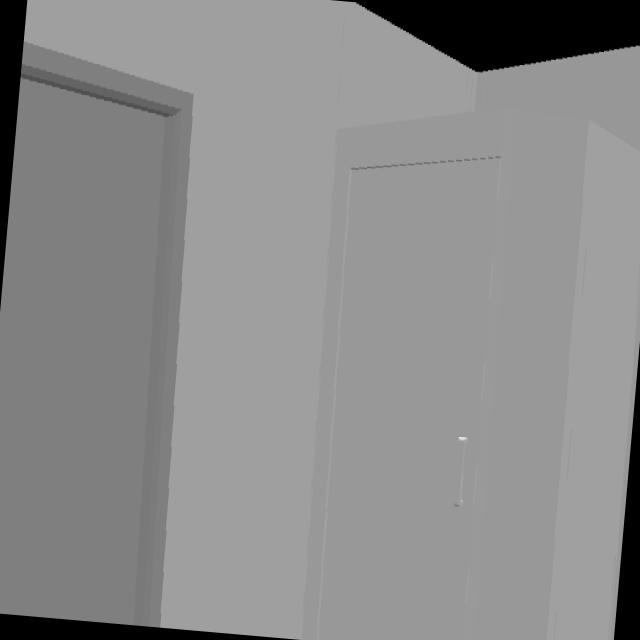shower: (300, 108, 640, 640)
